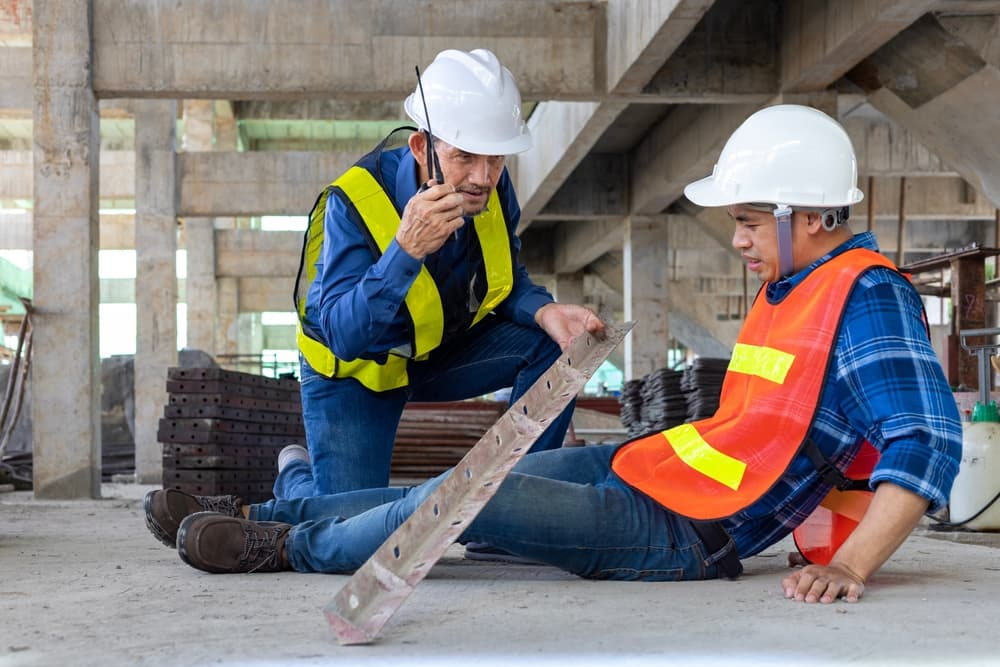Casco de seguridad: (684, 105, 863, 208), (404, 49, 531, 155)
